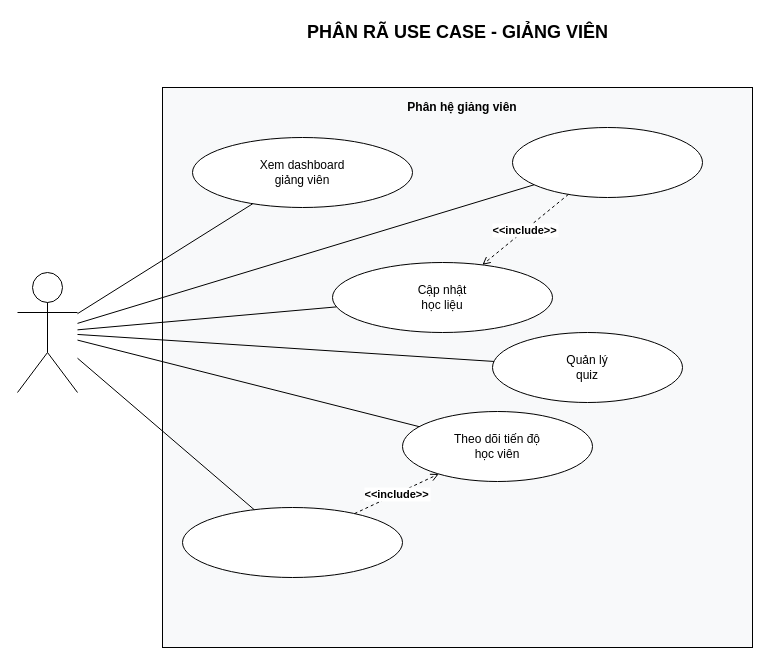
Some shapes in this 770 by 665 pixel diagram are drawn without their labels. Here are the shapes that lost their labels. From the top down, the centre of each, then its label:
[607,162]: Cập nhật khóa học
[47,332]: Giảng viên
[292,542]: Quản lý lớp học
